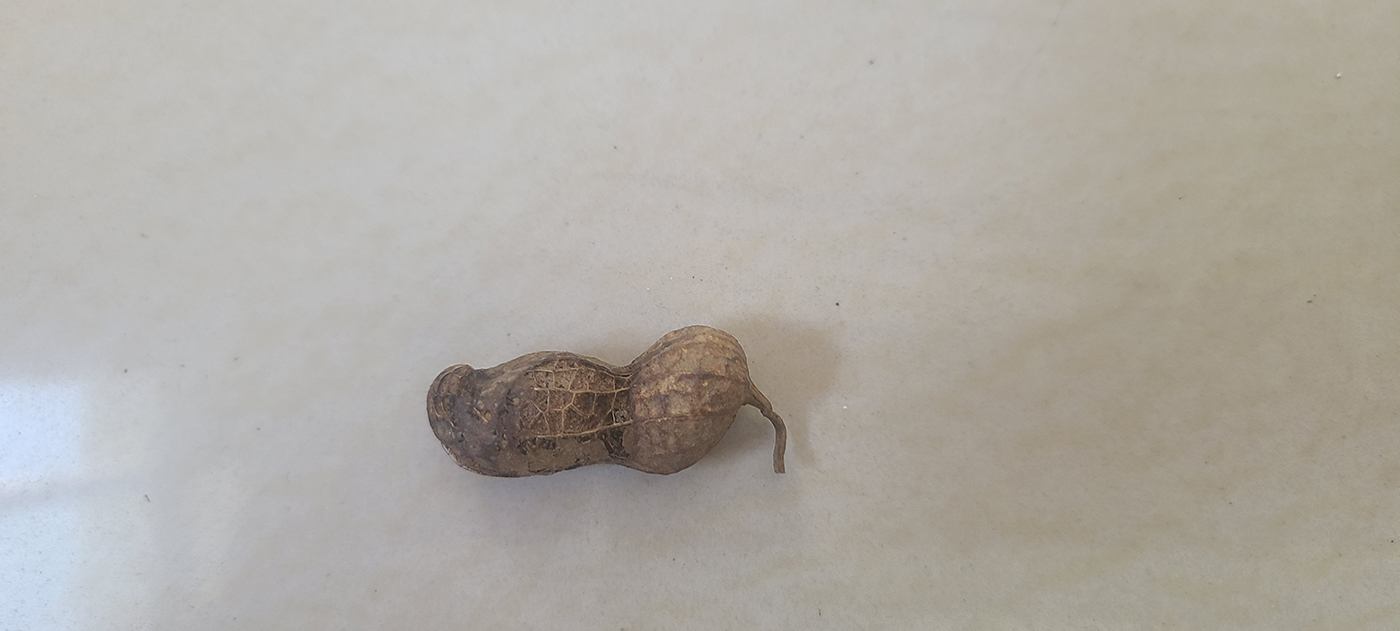l: (429, 326, 790, 482)
